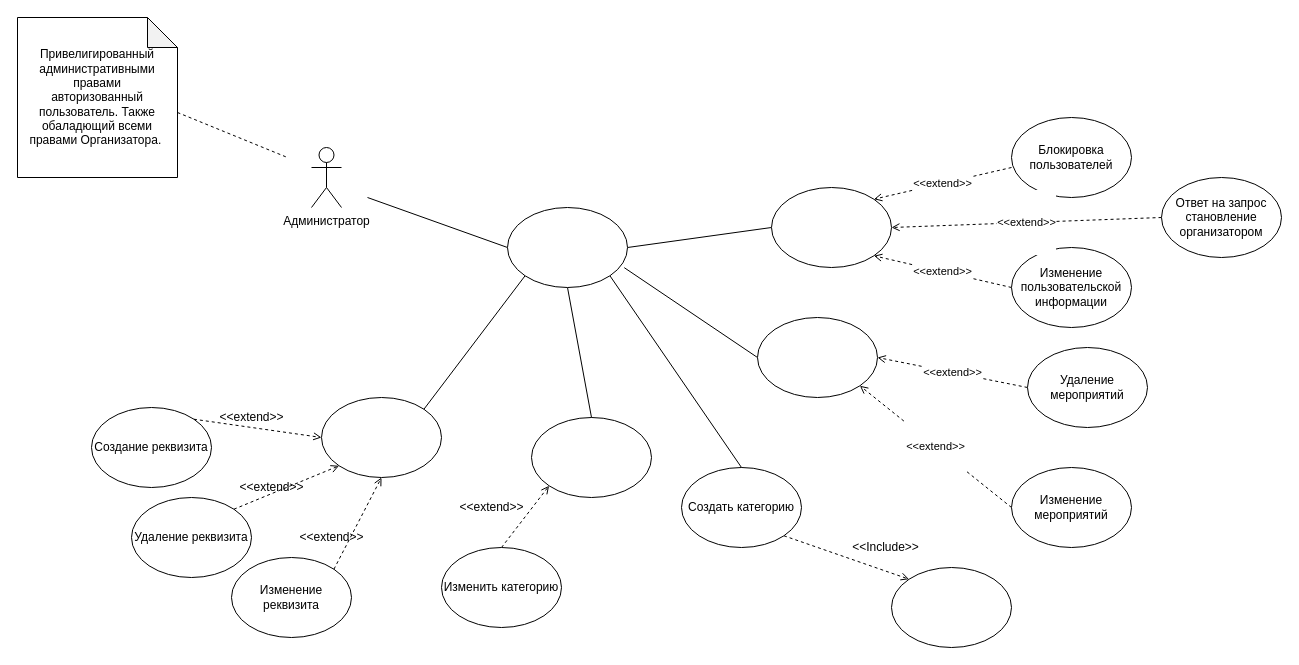
Image size: 1299x665. Some labels were removed from this diagram. Here are the shapes that lost their labels. From the top down, the centre of each, then its label:
point (567, 247): Авторизация
point (831, 227): Просмотр всех пользователей системы
point (817, 357): Просмотр всех мероприятий
point (381, 437): Просмотр всех реквизитов
point (591, 457): Просмотр всех категорий
point (951, 607): Ввести данные категории
